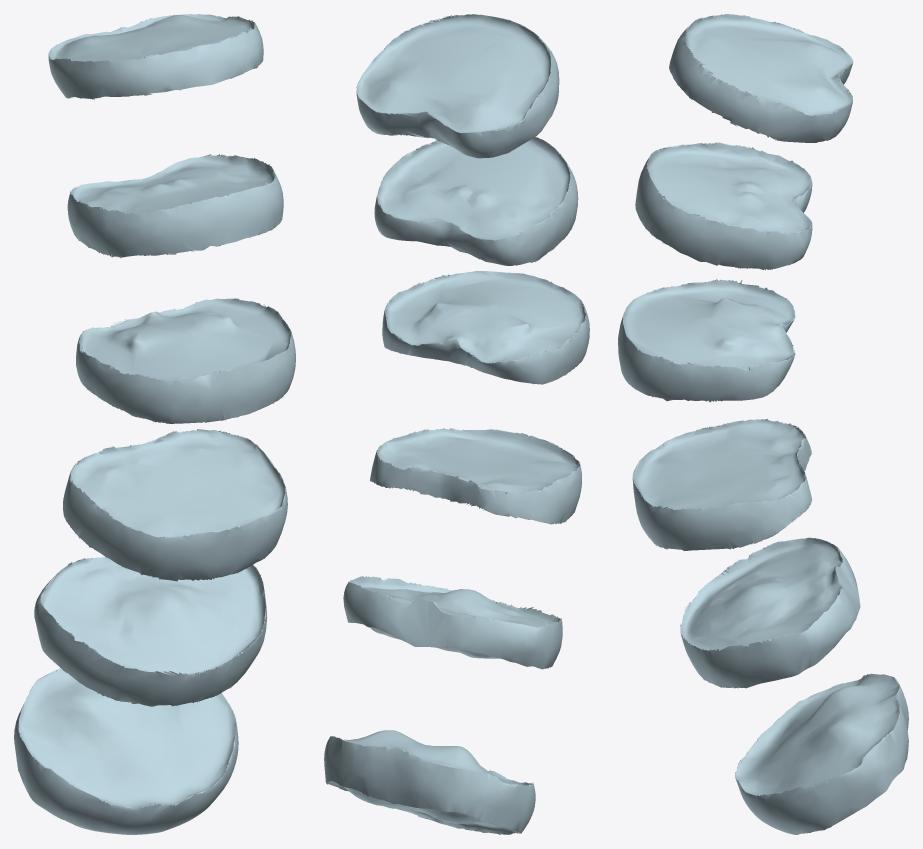
The model's file is joints.abdomen.glb.
The picture shows the model from 3 angles, left to right: view 1: azimuth 30°, elevation 25°; view 2: azimuth 150°, elevation 25°; view 3: azimuth 270°, elevation 25°; orthographic projection. The views are drawn at different scales.
Visible parts, largest first — view 1: intervertebral_disk_of_fifth_lumbar_vertebra, intervertebral_disk_of_third_lumbar_vertebra, intervertebral_disk_of_fourth_lumbar_vertebra, intervertebral_disk_of_second_lumbar_vertebra, intervertebral_disk_of_first_lumbar_vertebra, intervertebral_disk; view 2: intervertebral_disk, intervertebral_disk_of_first_lumbar_vertebra, intervertebral_disk_of_second_lumbar_vertebra, intervertebral_disk_of_third_lumbar_vertebra, intervertebral_disk_of_fifth_lumbar_vertebra, intervertebral_disk_of_fourth_lumbar_vertebra; view 3: intervertebral_disk_of_fourth_lumbar_vertebra, intervertebral_disk_of_fifth_lumbar_vertebra, intervertebral_disk_of_third_lumbar_vertebra, intervertebral_disk_of_second_lumbar_vertebra, intervertebral_disk_of_first_lumbar_vertebra, intervertebral_disk.
Part boxes in pixels (x1,y1,x2,y2): intervertebral_disk_of_fifth_lumbar_vertebra: (14, 668, 238, 834); intervertebral_disk_of_third_lumbar_vertebra: (62, 429, 287, 581); intervertebral_disk_of_fourth_lumbar_vertebra: (34, 557, 267, 706); intervertebral_disk_of_second_lumbar_vertebra: (76, 298, 295, 423); intervertebral_disk_of_first_lumbar_vertebra: (67, 154, 283, 257); intervertebral_disk: (48, 14, 263, 99); intervertebral_disk: (356, 14, 559, 158); intervertebral_disk_of_first_lumbar_vertebra: (374, 137, 578, 265); intervertebral_disk_of_second_lumbar_vertebra: (382, 271, 589, 384); intervertebral_disk_of_third_lumbar_vertebra: (370, 428, 581, 524); intervertebral_disk_of_fifth_lumbar_vertebra: (324, 730, 535, 834); intervertebral_disk_of_fourth_lumbar_vertebra: (343, 576, 562, 669); intervertebral_disk_of_fourth_lumbar_vertebra: (680, 537, 860, 688); intervertebral_disk_of_fifth_lumbar_vertebra: (735, 673, 908, 834); intervertebral_disk_of_third_lumbar_vertebra: (632, 419, 811, 550); intervertebral_disk_of_second_lumbar_vertebra: (618, 279, 795, 402); intervertebral_disk_of_first_lumbar_vertebra: (635, 142, 812, 270); intervertebral_disk: (669, 14, 853, 142).
Bounding box in the file's own units: 0.0492 × 0.1841 × 0.062.
